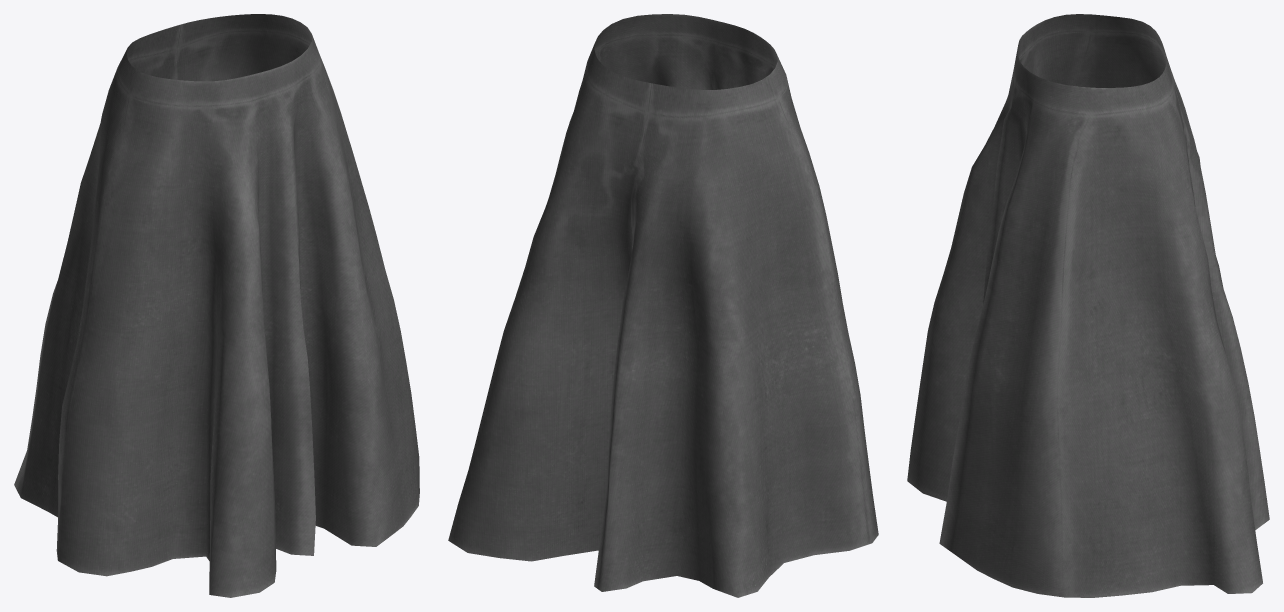
Rendered from clo_sk_dwarf_dress_normal_b.fbx.
3 views of the same model, side by side, from view 1: azimuth 30°, elevation 25°; view 2: azimuth 150°, elevation 25°; view 3: azimuth 270°, elevation 25° (orthographic).
Visible parts, largest first — view 1: clo_sk_dwarf_dress_normal_b; view 2: clo_sk_dwarf_dress_normal_b; view 3: clo_sk_dwarf_dress_normal_b.
Part boxes in pixels (bbox=[...]): clo_sk_dwarf_dress_normal_b: bbox=[14, 14, 419, 597]; clo_sk_dwarf_dress_normal_b: bbox=[448, 14, 878, 597]; clo_sk_dwarf_dress_normal_b: bbox=[907, 14, 1269, 597].
Size of the model in its own units: 0.659 by 0.5951 by 0.87.
Materials: 1 (1 with a texture image).
